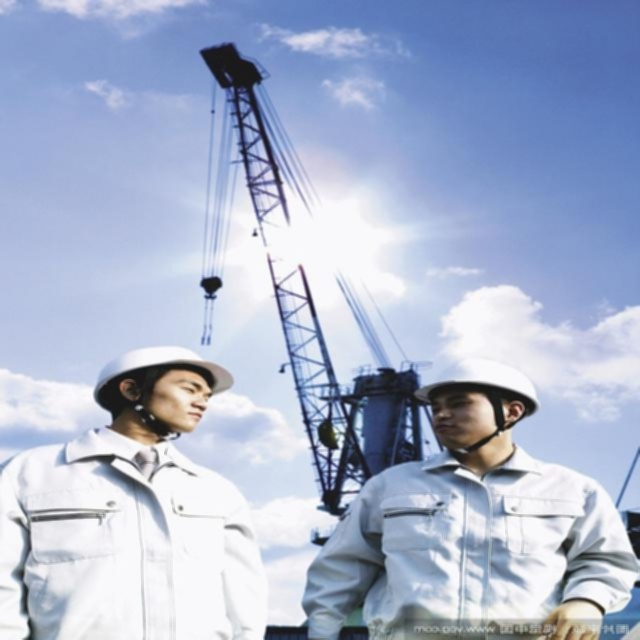Con_Casco: (92, 348, 236, 423), (416, 361, 541, 441)
Sin_Chaleco: (291, 458, 633, 640), (0, 449, 267, 640)
